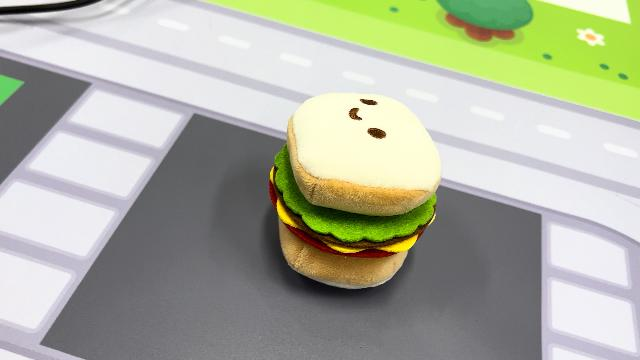sandwich: (266, 89, 444, 291)
